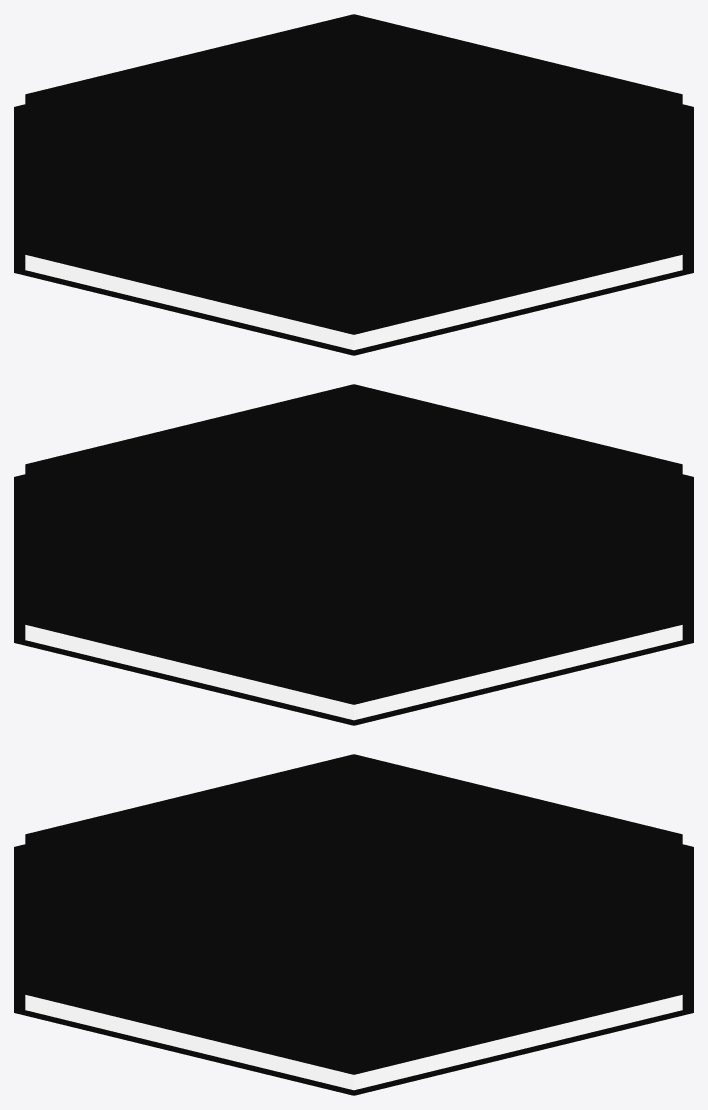
File: Chao2_Hall_SegundoAndar.gltf
3 renders of one model, top to bottom at view 1: azimuth 30°, elevation 25°; view 2: azimuth 150°, elevation 25°; view 3: azimuth 270°, elevation 25°, orthographic.
Parts seen in each view (by area): view 1: ChaoHall.002; view 2: ChaoHall.002; view 3: ChaoHall.002.
Part boxes in pixels (<box>): ChaoHall.002: <box>14,14,693,355</box>; ChaoHall.002: <box>14,384,693,725</box>; ChaoHall.002: <box>14,754,693,1095</box>.
Bounding box in the file's own units: 6.93 × 0.15 × 6.
Materials: 2 (1 with a texture image).
